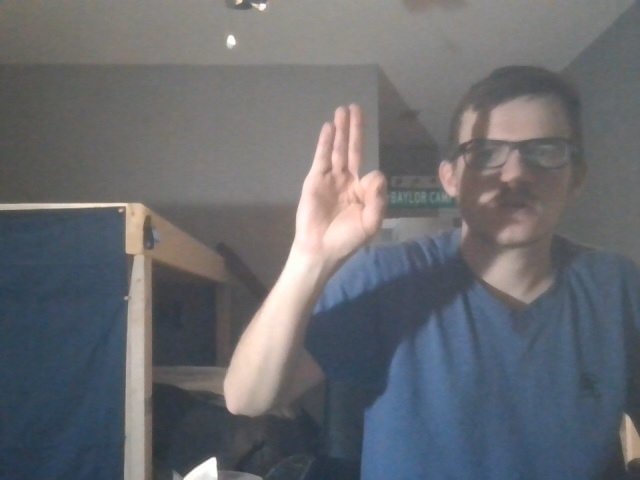F: (287, 96, 390, 266)
